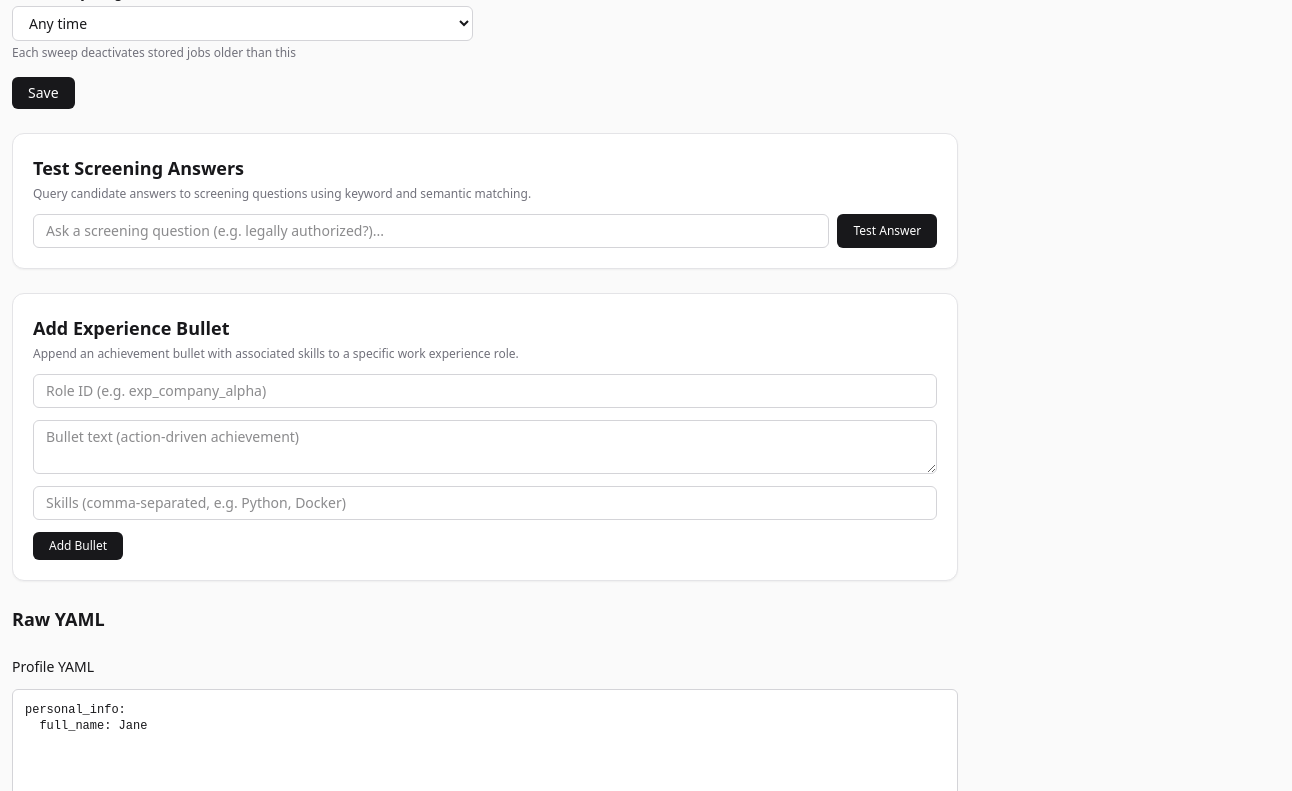
it: Profile page › adds a bullet point to a role
(page scrolled)
Type "exp_company_alpha" into the field with placeholder "Role ID (e.g. exp_company_alpha)".
click(485, 391); type("exp_company_alpha")  # box [33,374,937,408]
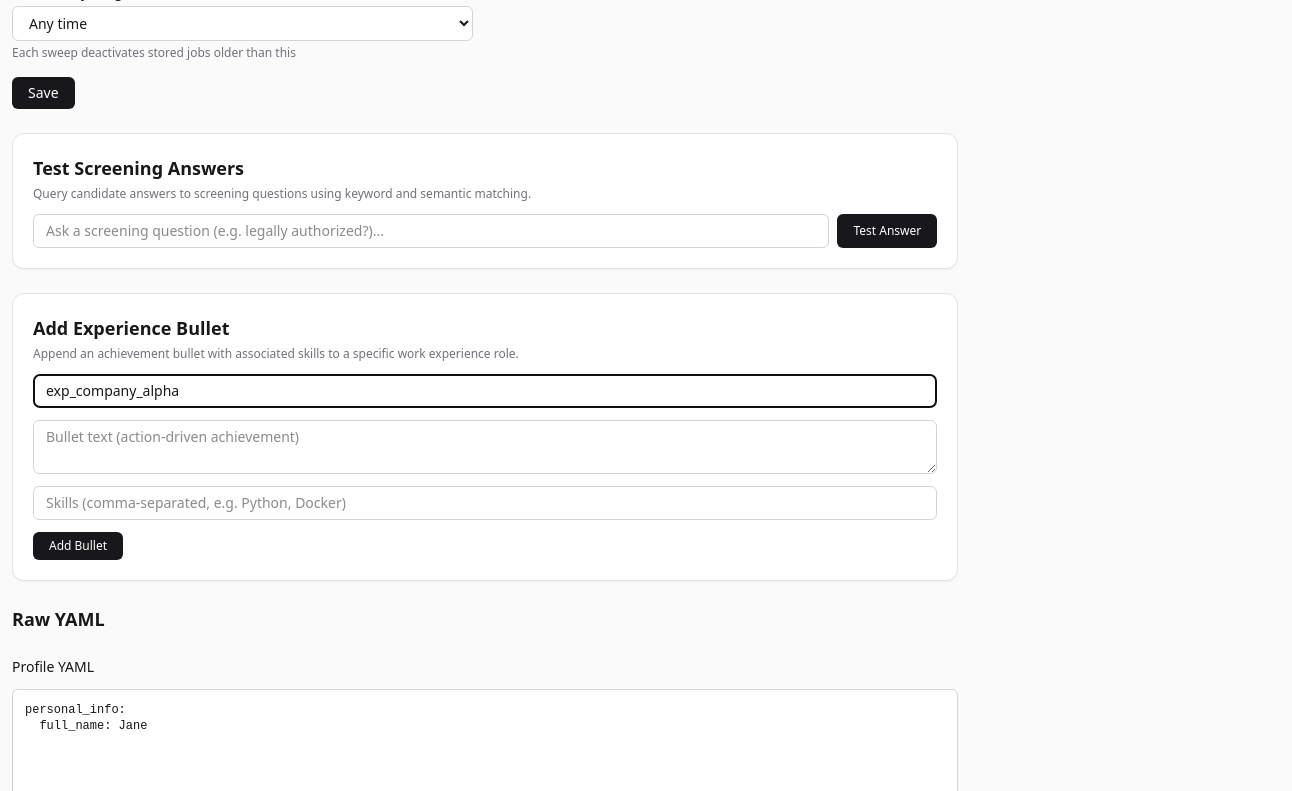
Type "Scaled WebSocket layer" into the text box with placeholder "Bullet text (action-driven achievement)".
click(485, 447); type("Scaled WebSocket layer")  # box [33,420,937,474]
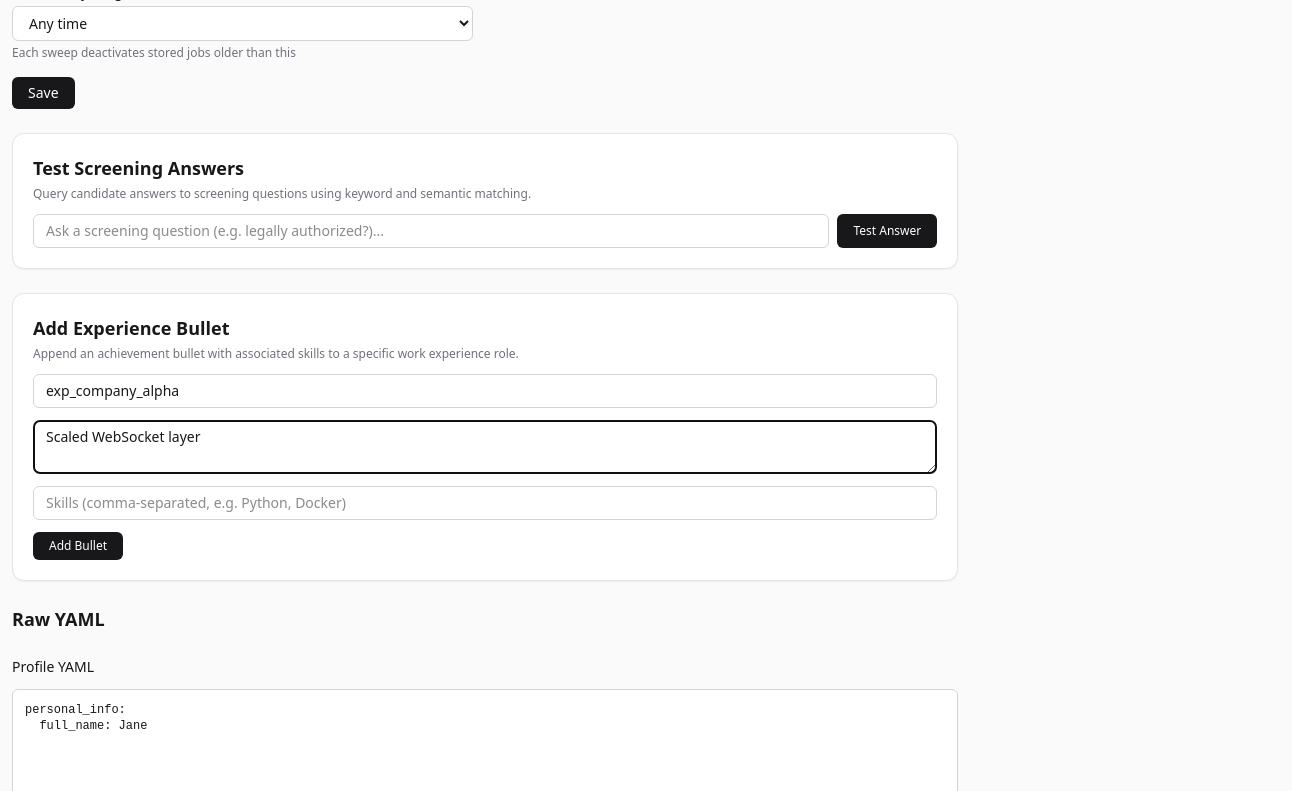
Type "WebSockets, Python" into the field with placeholder "Skills (comma-separated, e.g. Python, Docker)".
click(485, 503); type("WebSockets, Python")  # box [33,486,937,520]
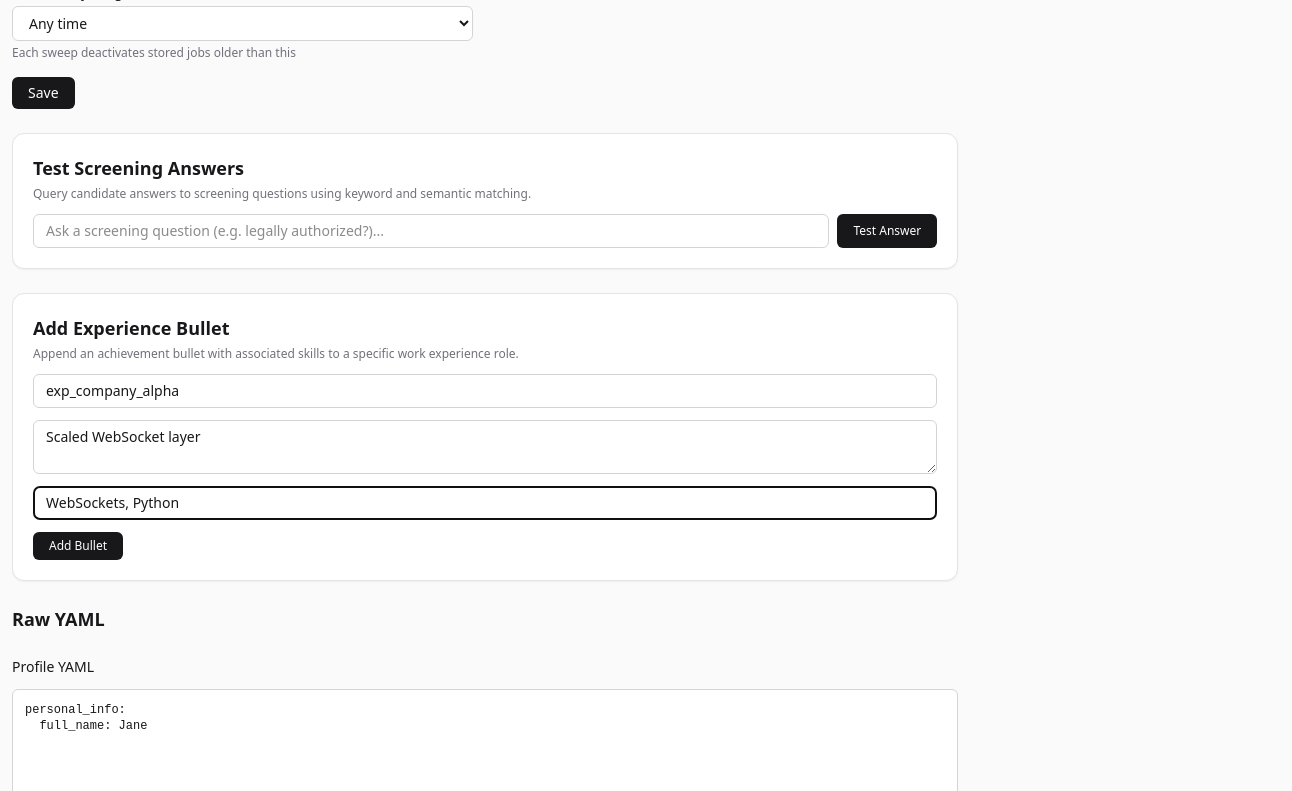
Click the button "Add Bullet".
click(78, 546)  # box [33,532,123,560]
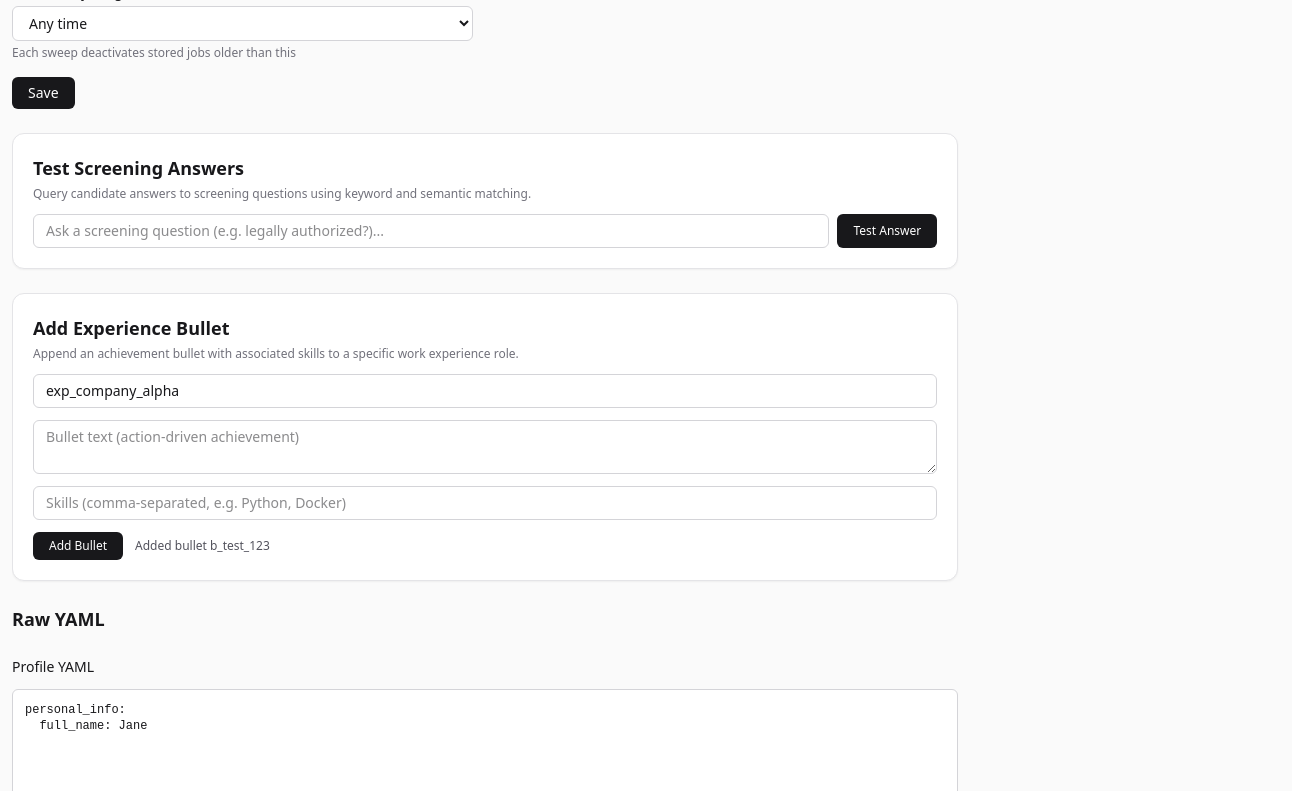
Check: the text "Added bullet b_test_123" is shown, box [135,538,270,554]
